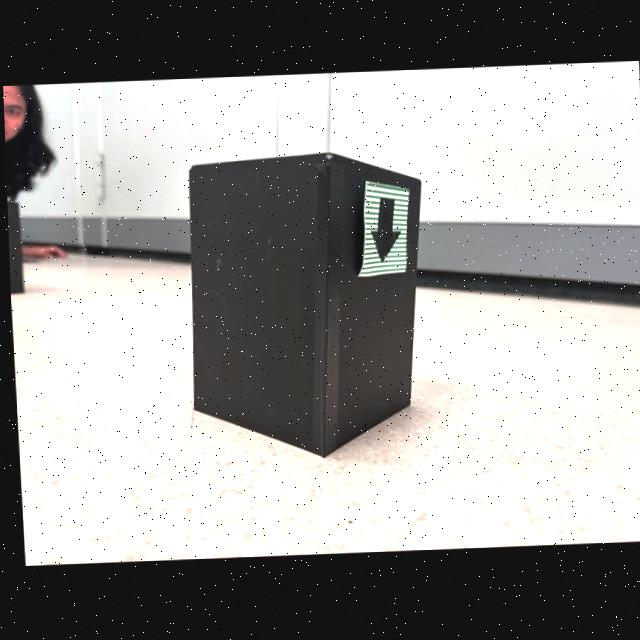DOWN: (369, 200, 397, 262)
